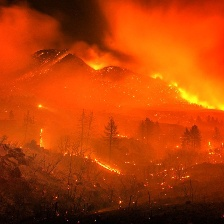fire: (152, 71, 224, 113), (91, 157, 118, 175), (38, 127, 47, 151), (89, 60, 103, 72), (37, 103, 46, 112)
smoke: (2, 1, 224, 55)
